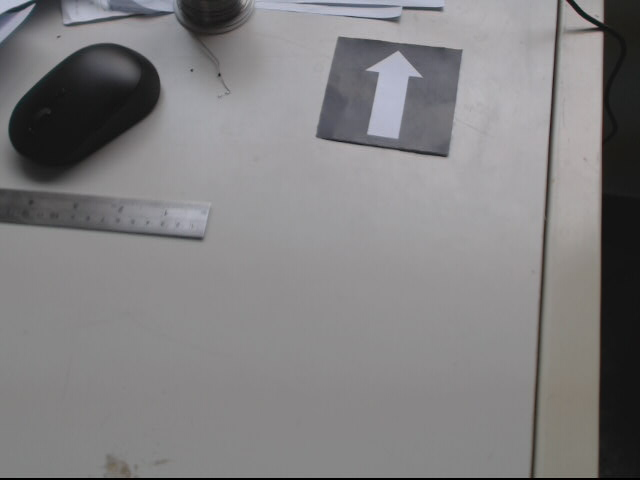straight: (313, 38, 463, 153)
